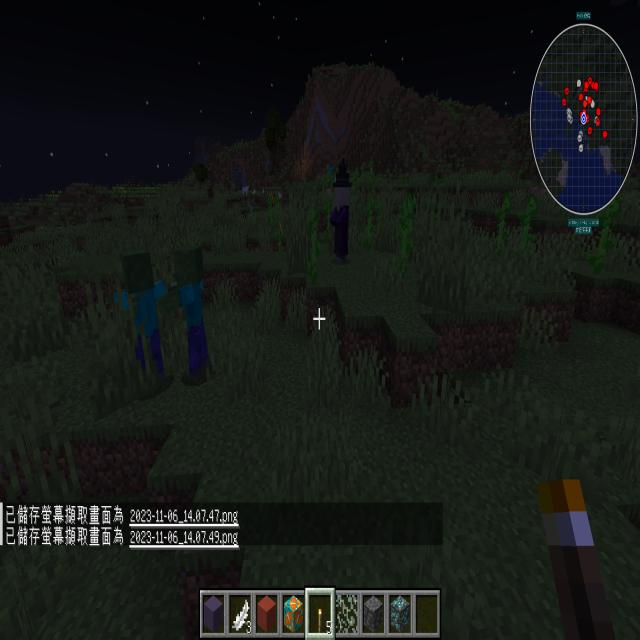Witch: (327, 151, 352, 269)
Zombie: (108, 245, 172, 401), (153, 239, 214, 397), (328, 161, 334, 178)
pig: (325, 186, 332, 200)
